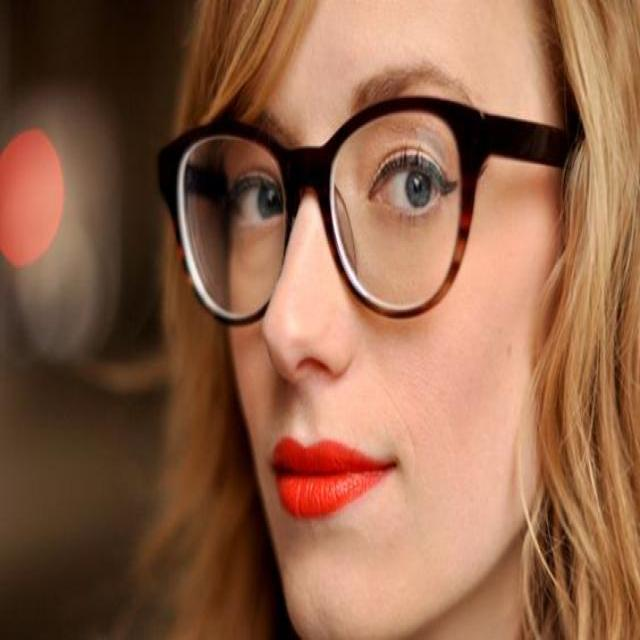glasses: (157, 97, 568, 328)
